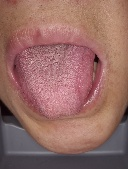tongue: (13, 85, 93, 120)
